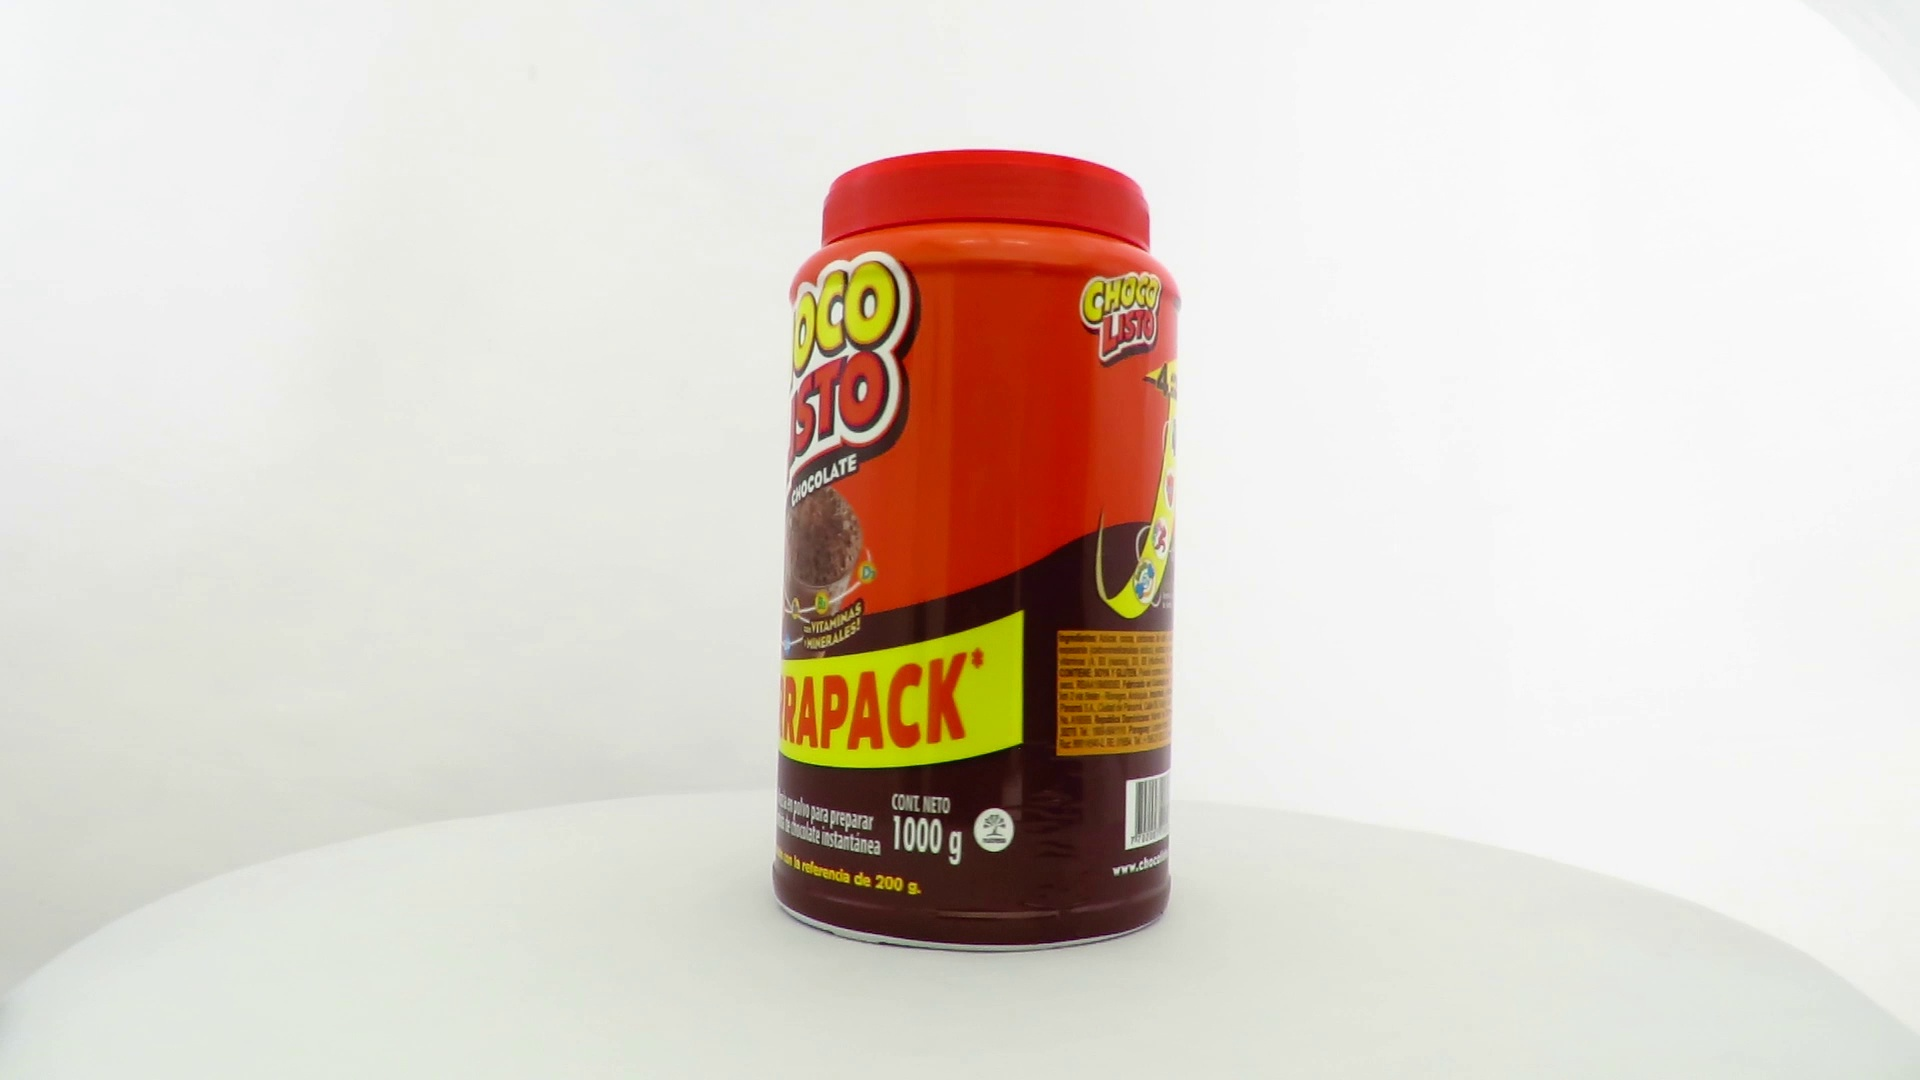COL0170103TRR00100: (767, 144, 1184, 960)
